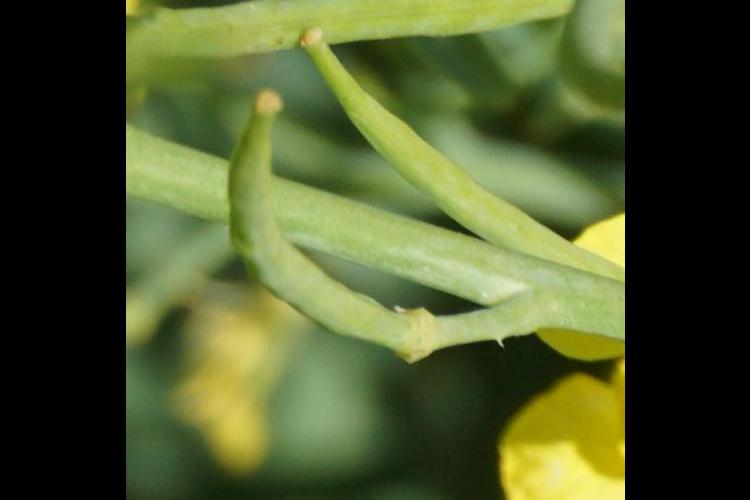pod: (214, 77, 500, 397), (297, 1, 601, 280)
